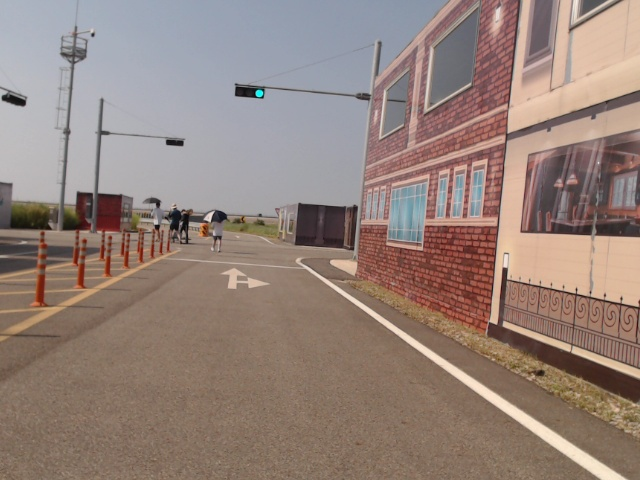green_3: (235, 86, 265, 99)
